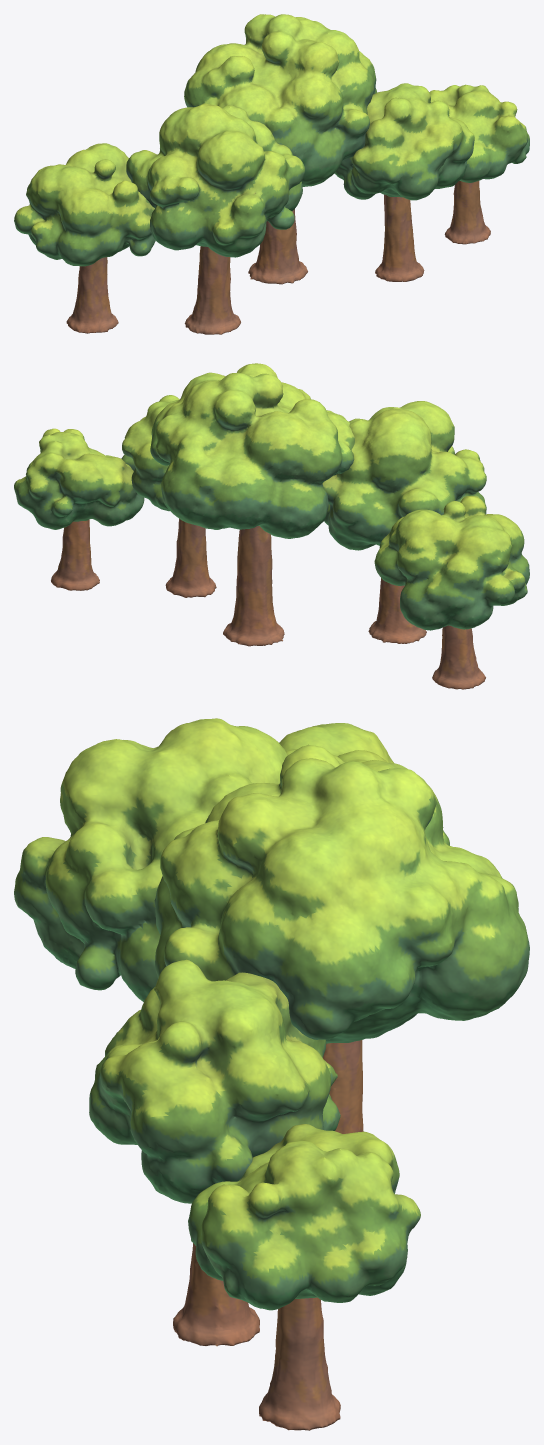
File: B02_ForestMass.fbx
3 renders of one model, top to bottom at view 1: azimuth 30°, elevation 25°; view 2: azimuth 150°, elevation 25°; view 3: azimuth 270°, elevation 25°, orthographic. The views are drawn at different scales.
Parts seen in each view (by area): view 1: B02_ForestMass; view 2: B02_ForestMass; view 3: B02_ForestMass.
Boxes of the visible parts, <box> form: B02_ForestMass: <box>14,14,529,334</box>; B02_ForestMass: <box>14,363,529,689</box>; B02_ForestMass: <box>14,718,529,1430</box>.
Size of the model in its own units: 14.23 by 7 by 6.72.
